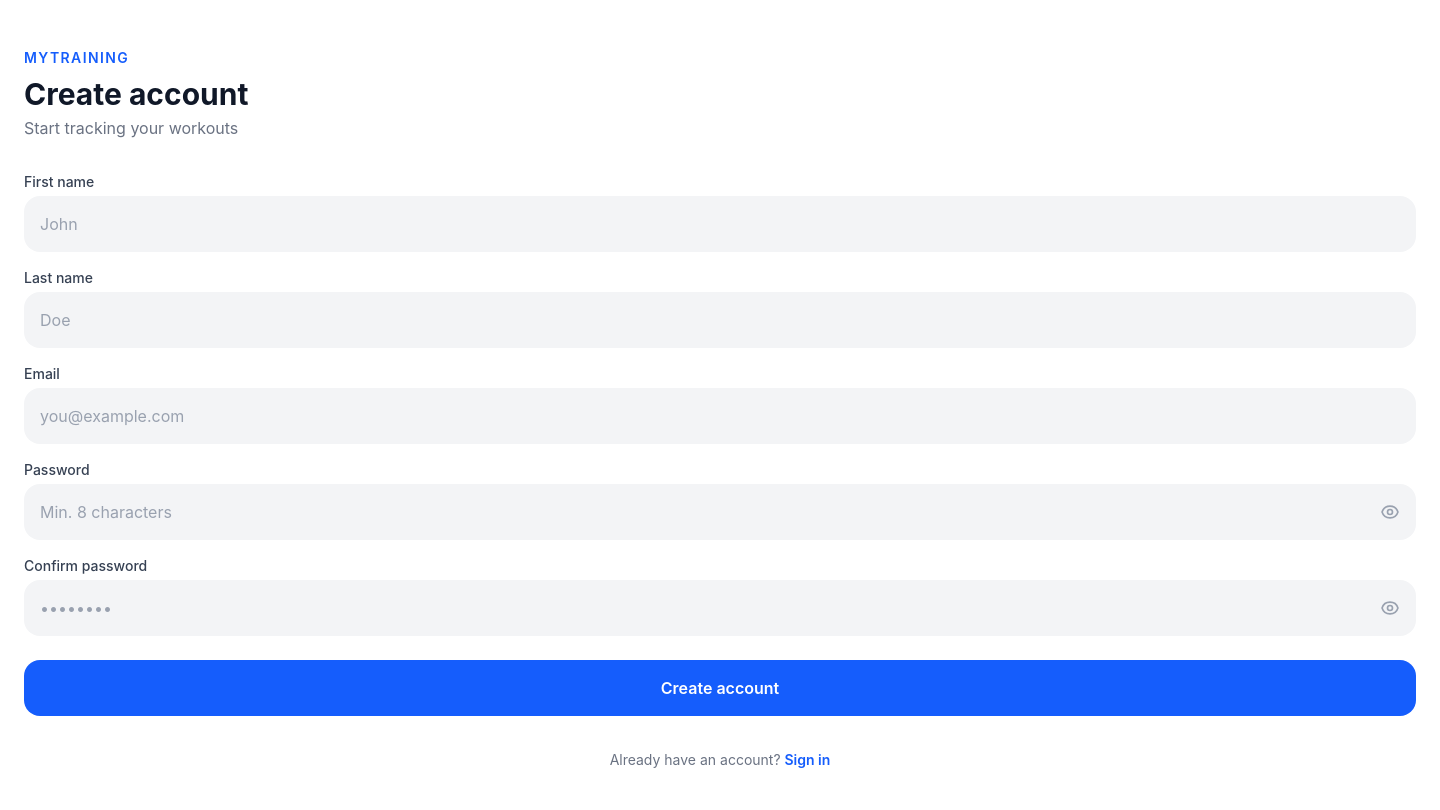
Scenario: SignUpPage › shows password rule indicators once the password field is touched
In the password field with placeholder "Min. 8 characters": {"x": 720, "y": 512} x1=24 y1=484 x2=1416 y2=540, type "a"
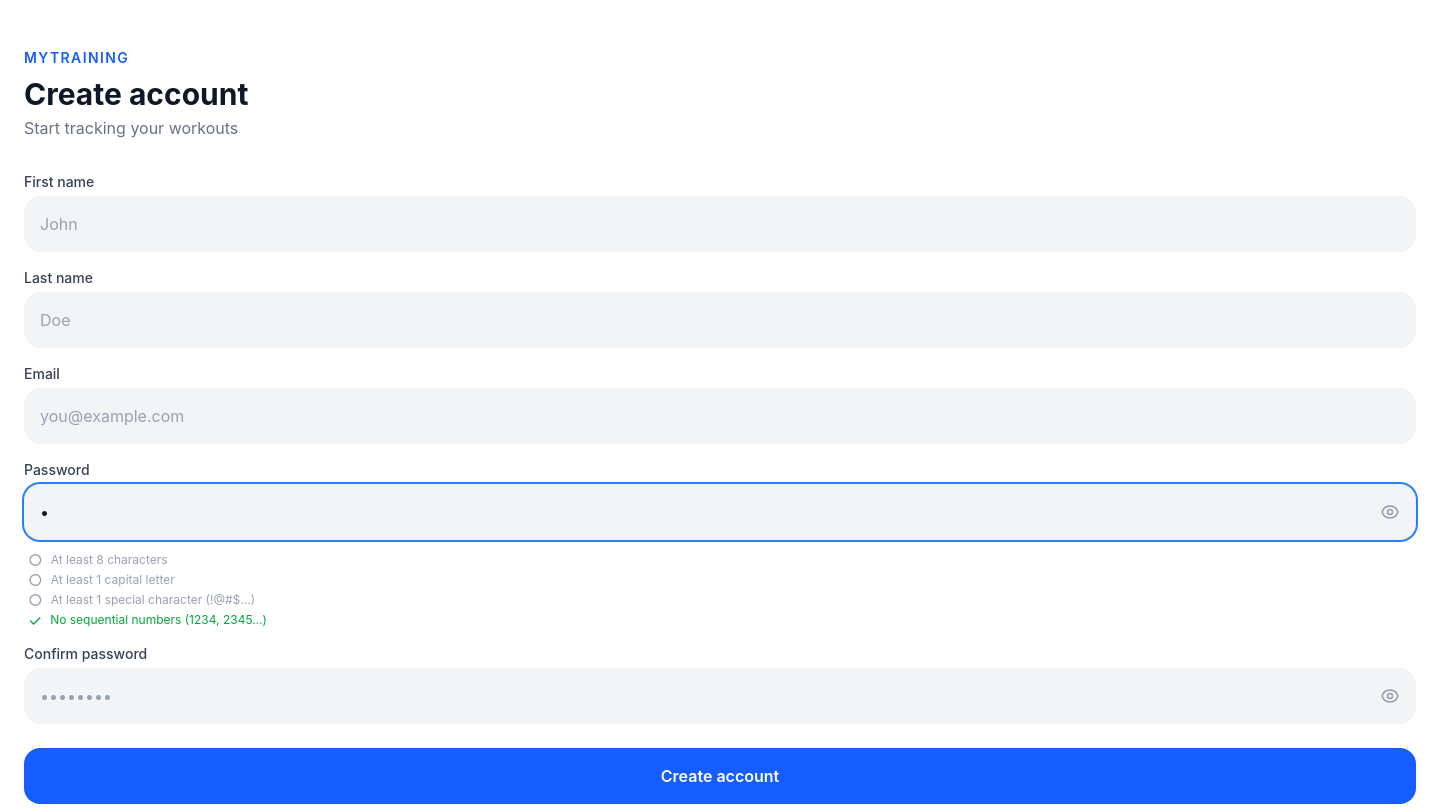
Result: the list item "○ At least 8 characters" is shown at x1=28 y1=550 x2=168 y2=570
Result: the list item "○ At least 1 capital letter" is shown at x1=28 y1=570 x2=175 y2=590
Result: the list item "○ At least 1 special character (!@#$…)" is shown at x1=28 y1=590 x2=255 y2=610
